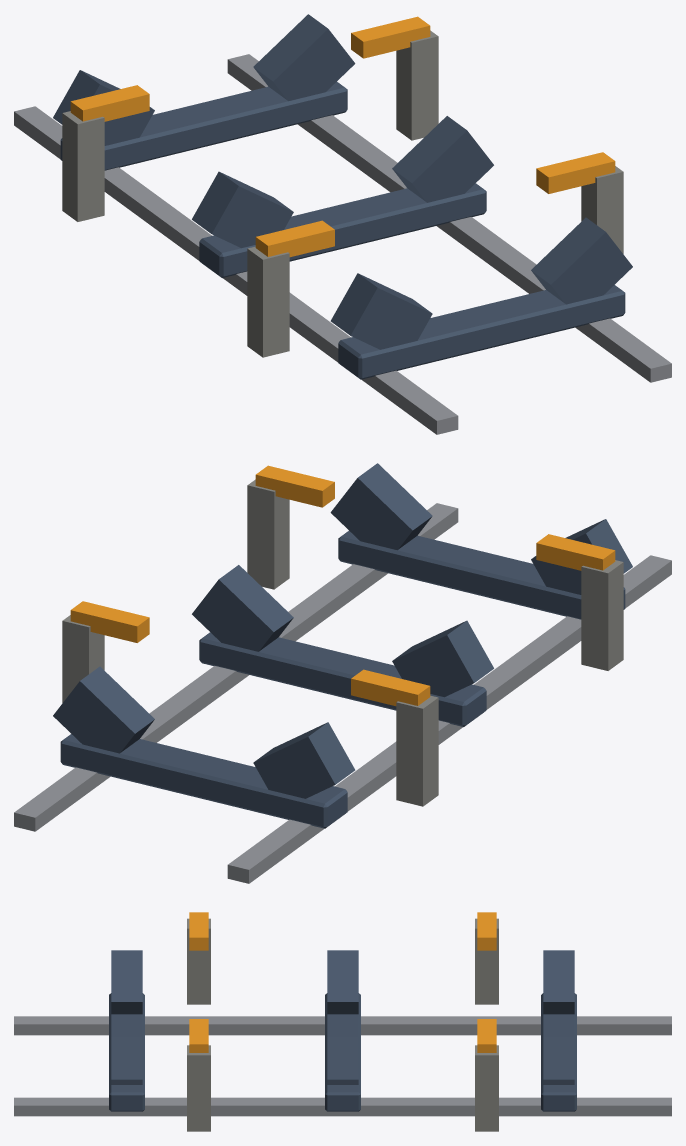
File: ak1_cradle.obj
3 renders of one model, top to bottom at view 1: azimuth 30°, elevation 25°; view 2: azimuth 150°, elevation 25°; view 3: azimuth 270°, elevation 25°, orthographic. The views are drawn at different scales.
Visible parts, largest first — view 1: ak1_cradle; view 2: ak1_cradle; view 3: ak1_cradle.
Boxes of the visible parts, x1,y1,x2,y2 form: ak1_cradle: (14, 14, 671, 434); ak1_cradle: (14, 463, 671, 883); ak1_cradle: (14, 912, 671, 1131).
Size of the model in its own units: 2.7 by 0.86 by 5.48.
